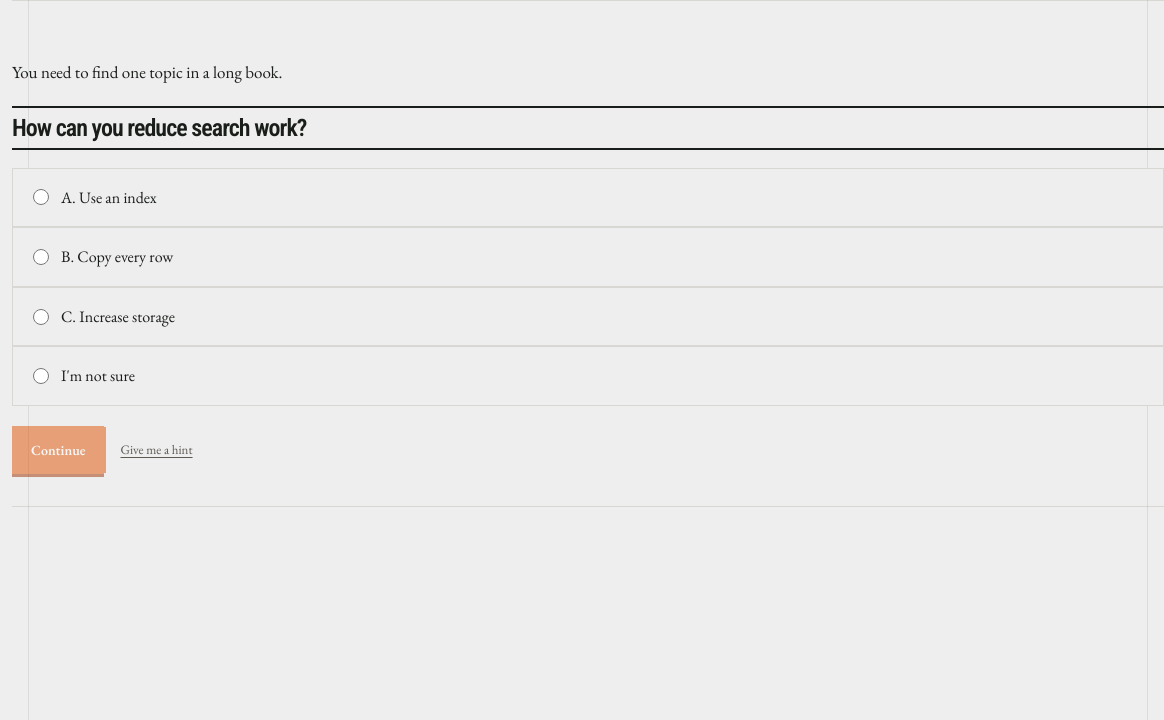
Test: sends uncertainty without guessing and presents the final explanation
Expected: the heading "How can you reduce search work?" is shown, [12, 114, 306, 142]
Click the radio button labelled "I'm not sure".
click(41, 376)  # box [33, 368, 49, 384]
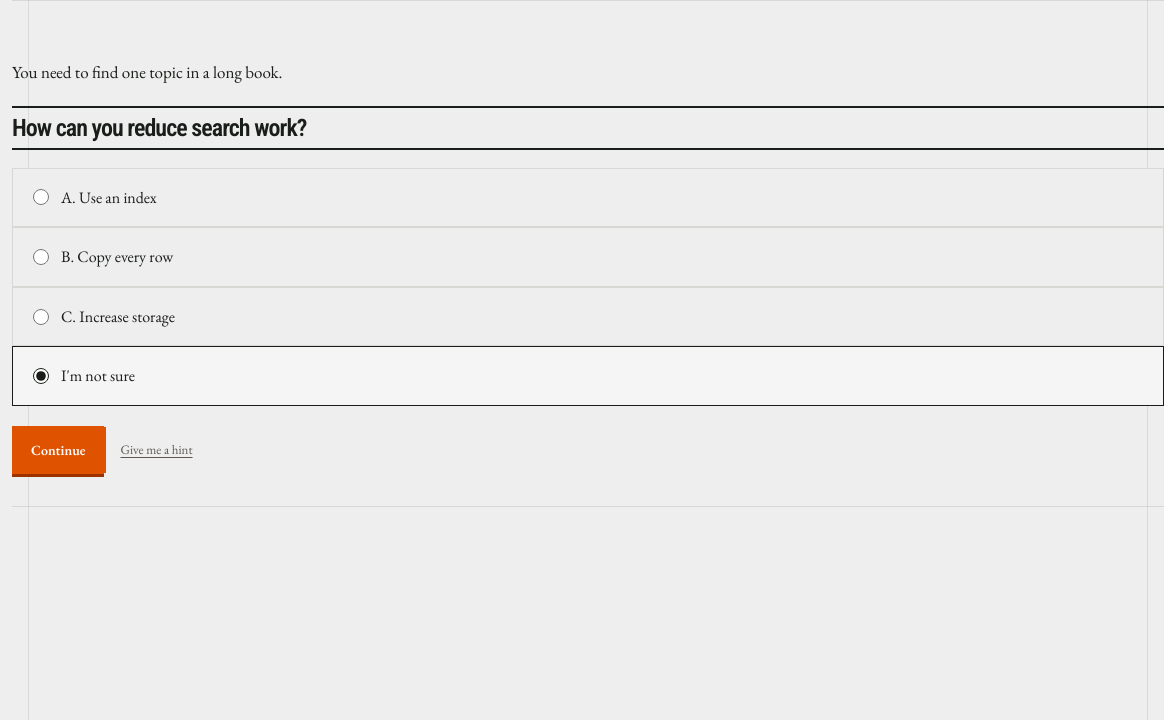
Click the button "Continue".
click(58, 450)  # box [12, 426, 104, 474]
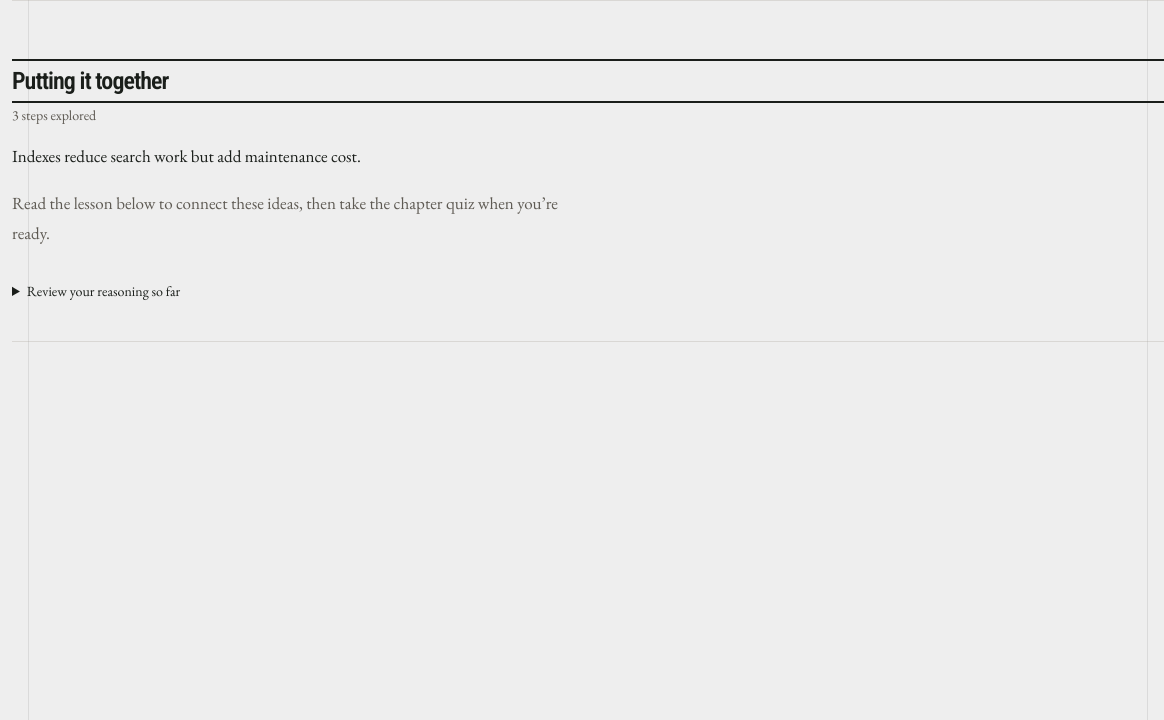
Result: the heading "Putting it together" is shown at [12, 67, 168, 95]
Result: the radio button is gone
Result: the text "Indexes reduce search work but add maintenance cost." is shown at [12, 145, 361, 167]
